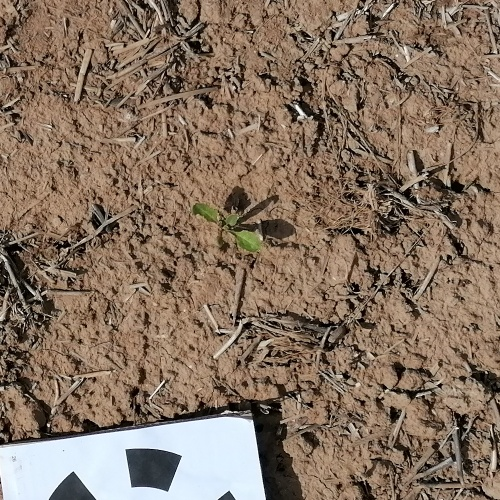beet: (193, 203, 263, 251)
